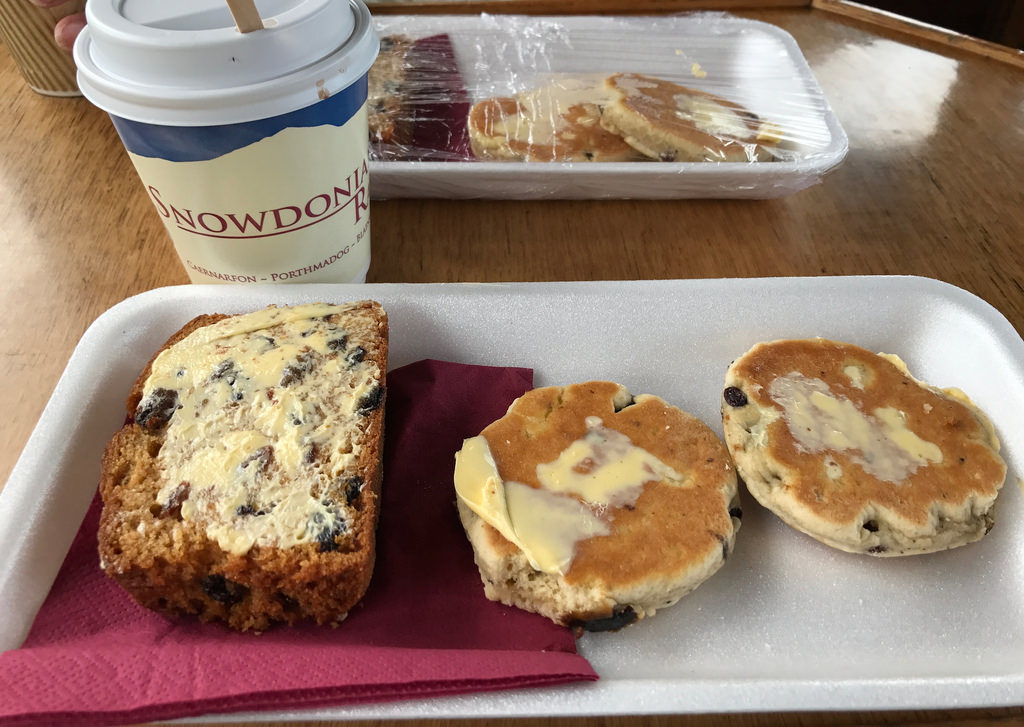slice of bread: (147, 317, 386, 614)
